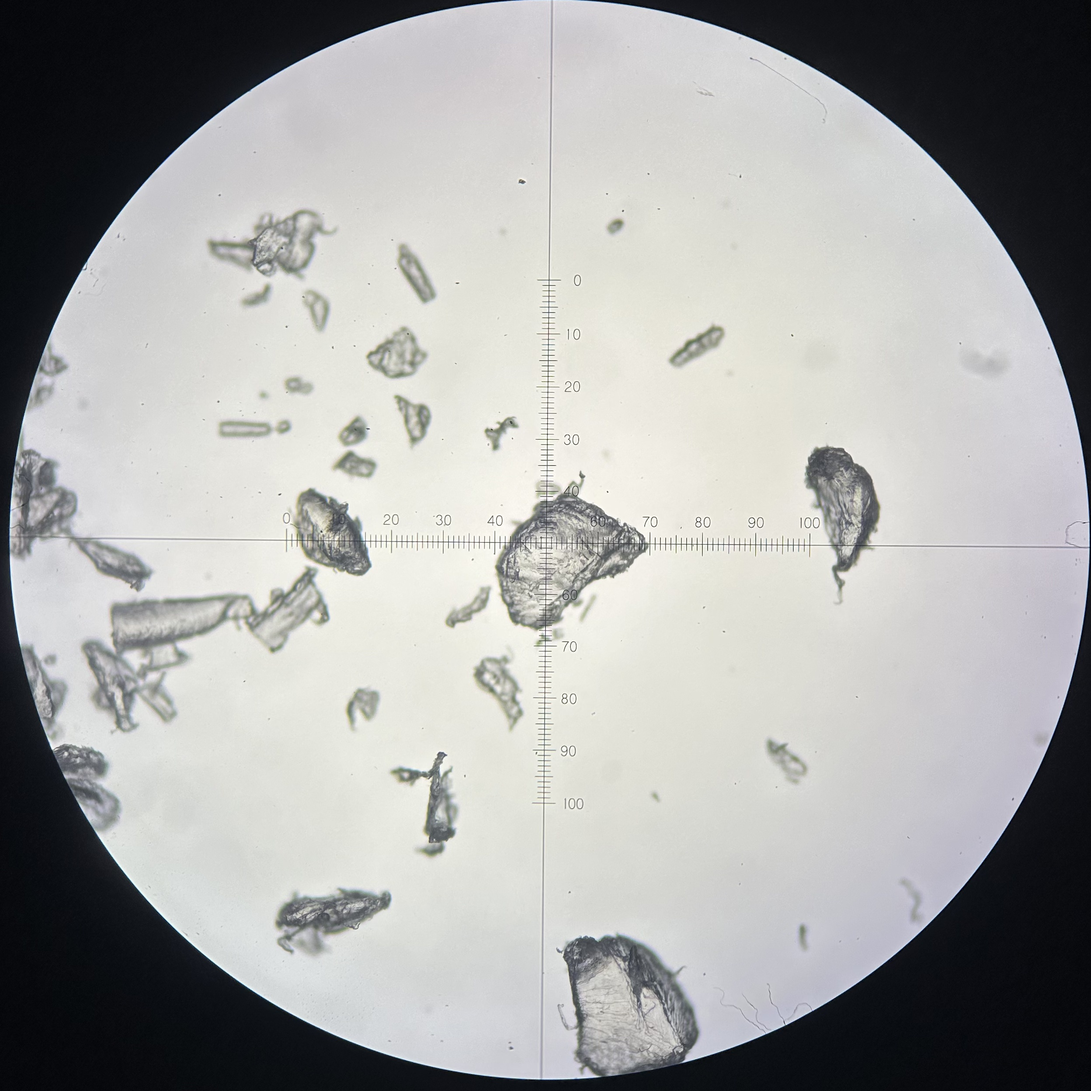microplastic: (493, 469, 650, 633), (555, 931, 701, 1077), (802, 442, 881, 608), (205, 208, 340, 280), (109, 595, 255, 657), (273, 886, 393, 957), (389, 750, 459, 861), (288, 488, 373, 578), (247, 567, 332, 657), (17, 449, 80, 559), (66, 533, 155, 594), (82, 641, 139, 732), (471, 654, 526, 733), (361, 324, 431, 380), (19, 645, 66, 728), (65, 778, 122, 834), (391, 392, 435, 456), (8, 459, 35, 563), (667, 324, 726, 371), (396, 242, 438, 307), (49, 744, 112, 783), (764, 737, 810, 787), (444, 586, 491, 629), (135, 682, 182, 724), (344, 687, 381, 731), (482, 414, 522, 453), (144, 639, 190, 671), (896, 878, 927, 925), (331, 449, 378, 479), (301, 288, 332, 333), (36, 340, 71, 377), (336, 414, 369, 449), (219, 420, 273, 438), (24, 382, 55, 413), (240, 283, 275, 310), (283, 375, 315, 396), (534, 480, 563, 499), (795, 922, 811, 952), (580, 595, 595, 622), (605, 218, 625, 234), (151, 673, 164, 697), (135, 661, 149, 681), (277, 418, 291, 434), (553, 627, 565, 642), (45, 653, 55, 669), (540, 632, 551, 642), (534, 638, 543, 648)
